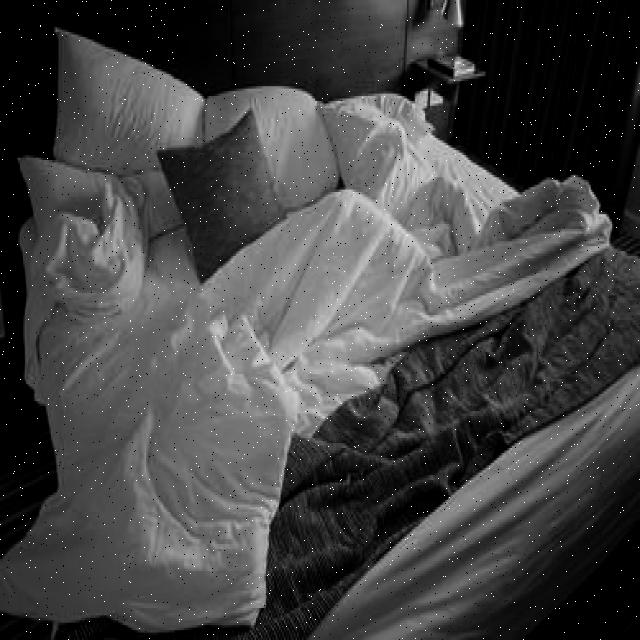bed: (9, 16, 639, 640)
